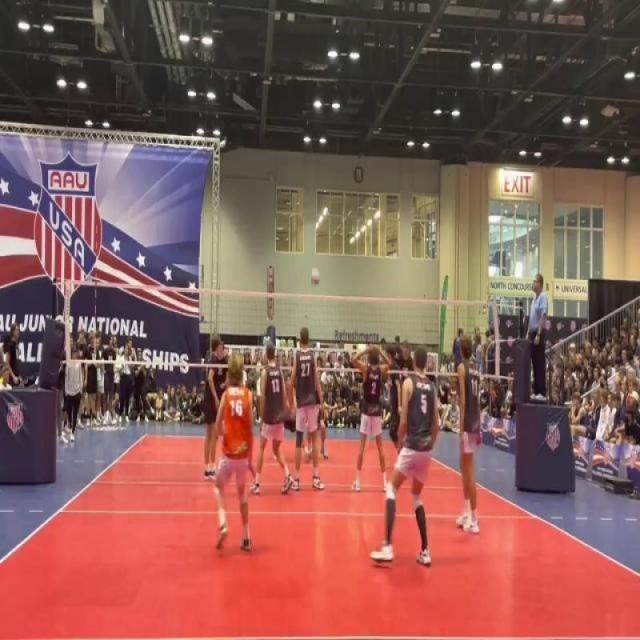volleyball: (310, 264, 321, 288)
